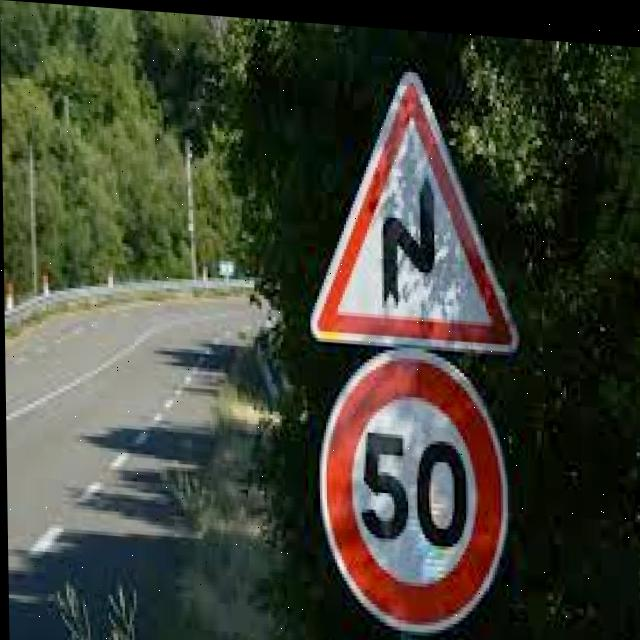Speed limit 50: (315, 334, 511, 636)
